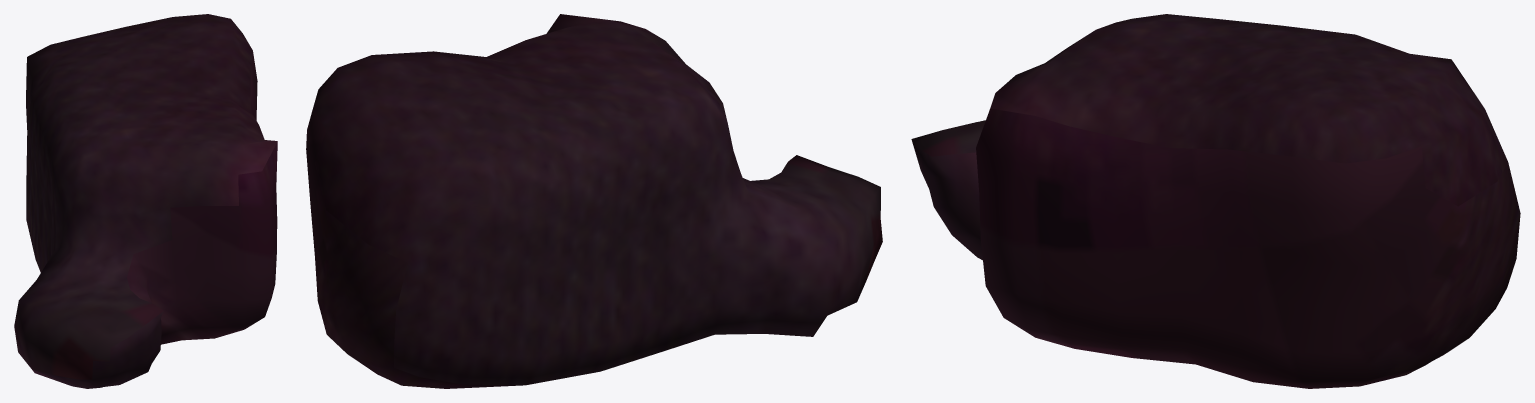
Rendered from terrain-abyss-chancel-object-040.obj.
The picture shows the model from 3 angles, left to right: view 1: azimuth 30°, elevation 25°; view 2: azimuth 150°, elevation 25°; view 3: azimuth 270°, elevation 25°; orthographic projection. The views are drawn at different scales.
Visible parts, largest first — view 1: terrain-abyss-chancel-object-040; view 2: terrain-abyss-chancel-object-040; view 3: terrain-abyss-chancel-object-040.
Part boxes in pixels (box(x1,y1,x2,y2)): terrain-abyss-chancel-object-040: box(14, 14, 277, 388); terrain-abyss-chancel-object-040: box(306, 14, 882, 388); terrain-abyss-chancel-object-040: box(911, 14, 1520, 388).
Bounding box in the file's own units: 0.124 × 0.0801 × 0.1447.
